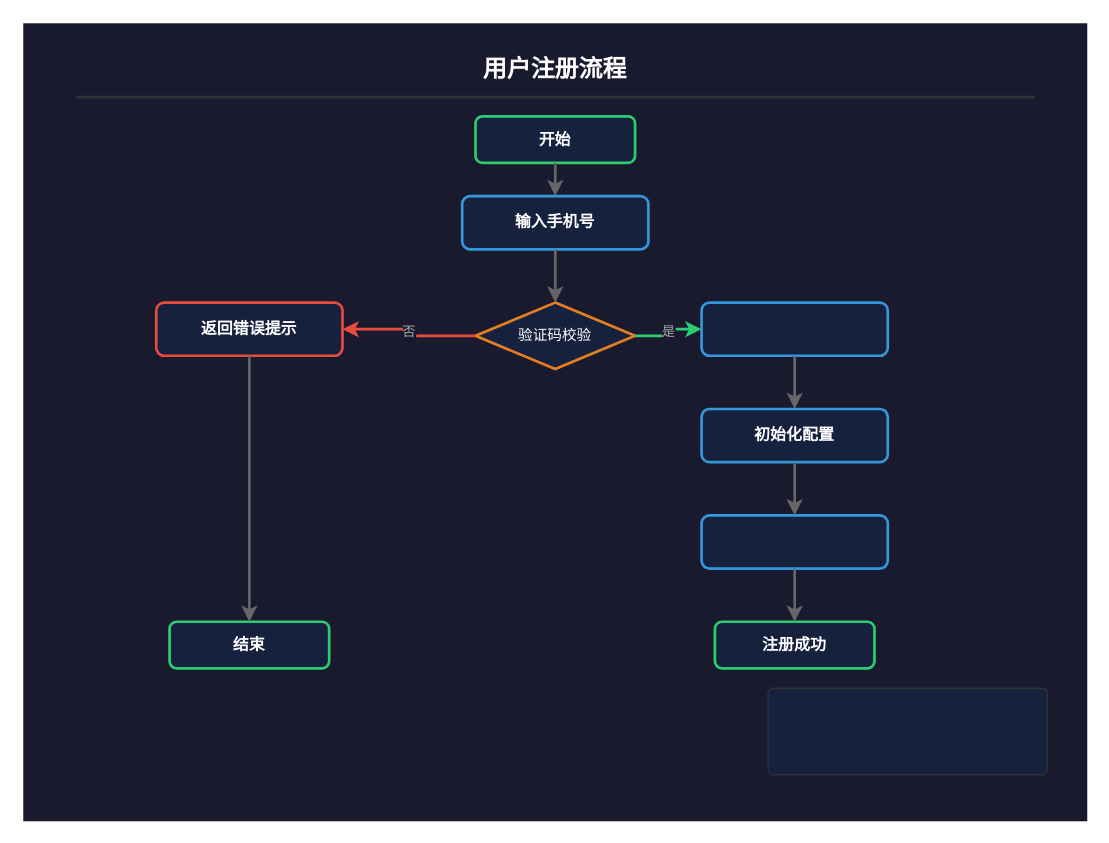
Some shapes in this 1109 by 843 pixel diagram are drawn without their labels. Here are the shapes that lost their labels. From the top down, the centre of each, then its label:
point 794,328: 创建用户
point 794,541: 登录完成
point 907,731: 图例说明 ━━━━━━━━━ ■ 主流程(蓝色) ■ 成功(绿色) ■ 错误(红色) ■ 判断(橙色)
